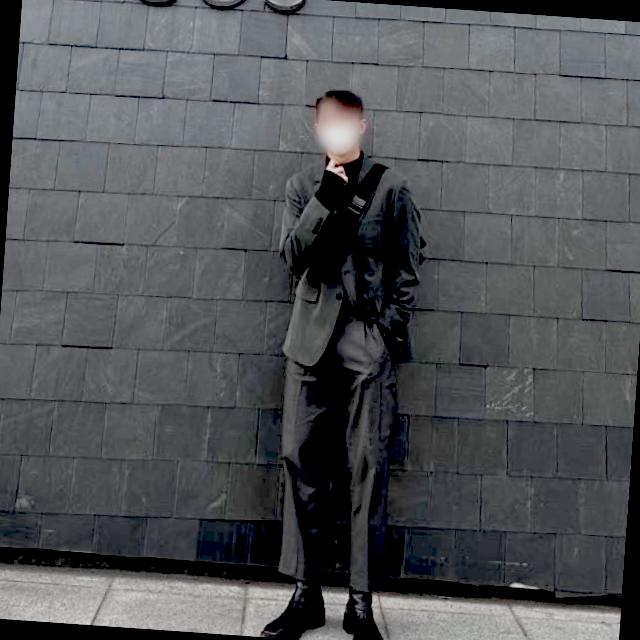blazer: (267, 148, 431, 378)
slacks: (266, 296, 411, 598)
